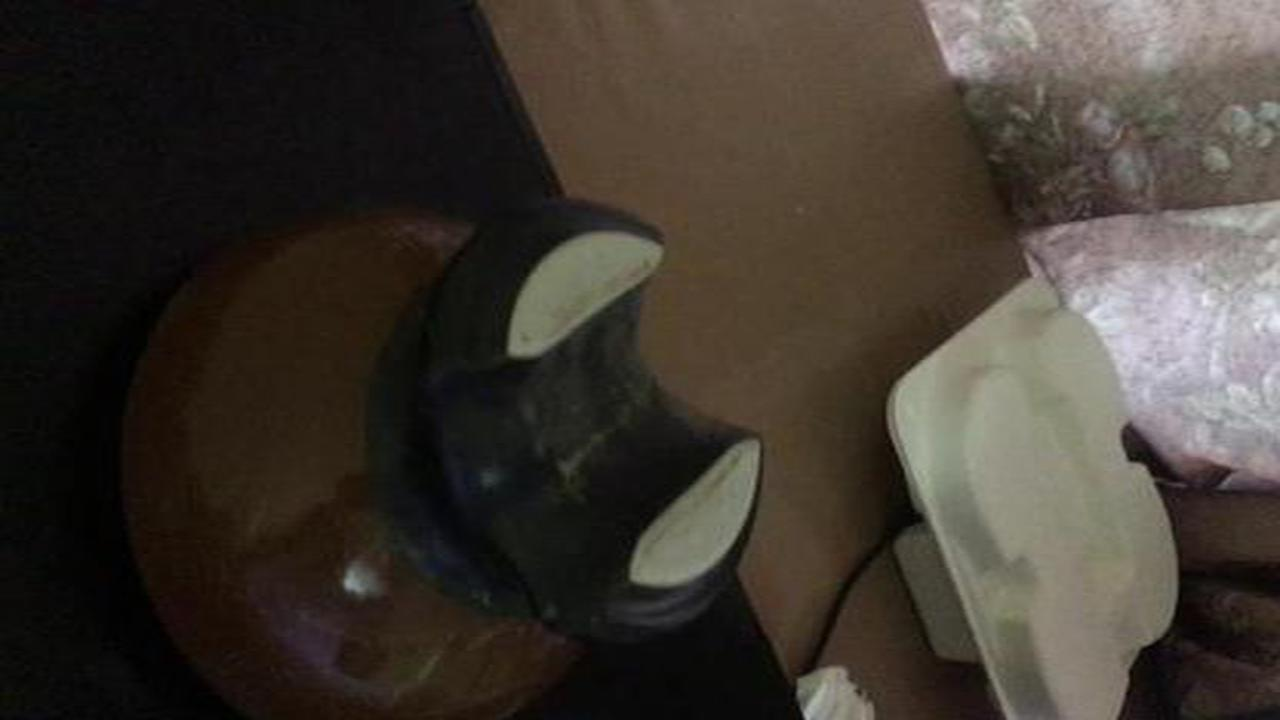insulator_pin: (102, 191, 782, 717)
